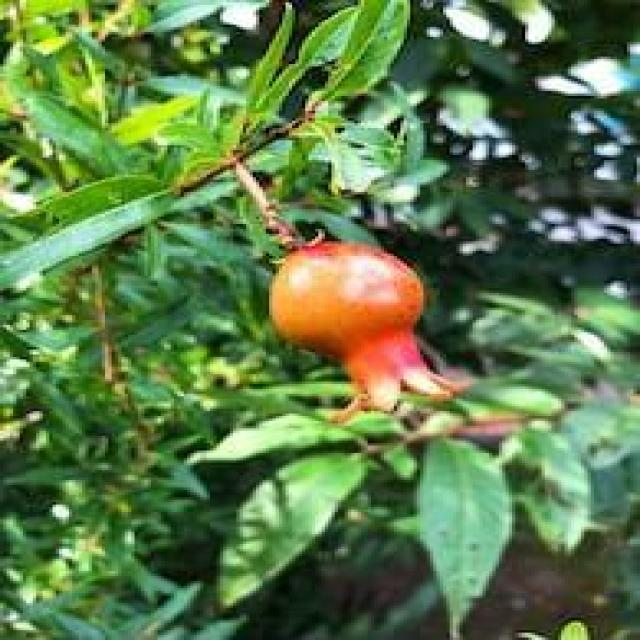Pomegranate: (265, 238, 472, 428)
